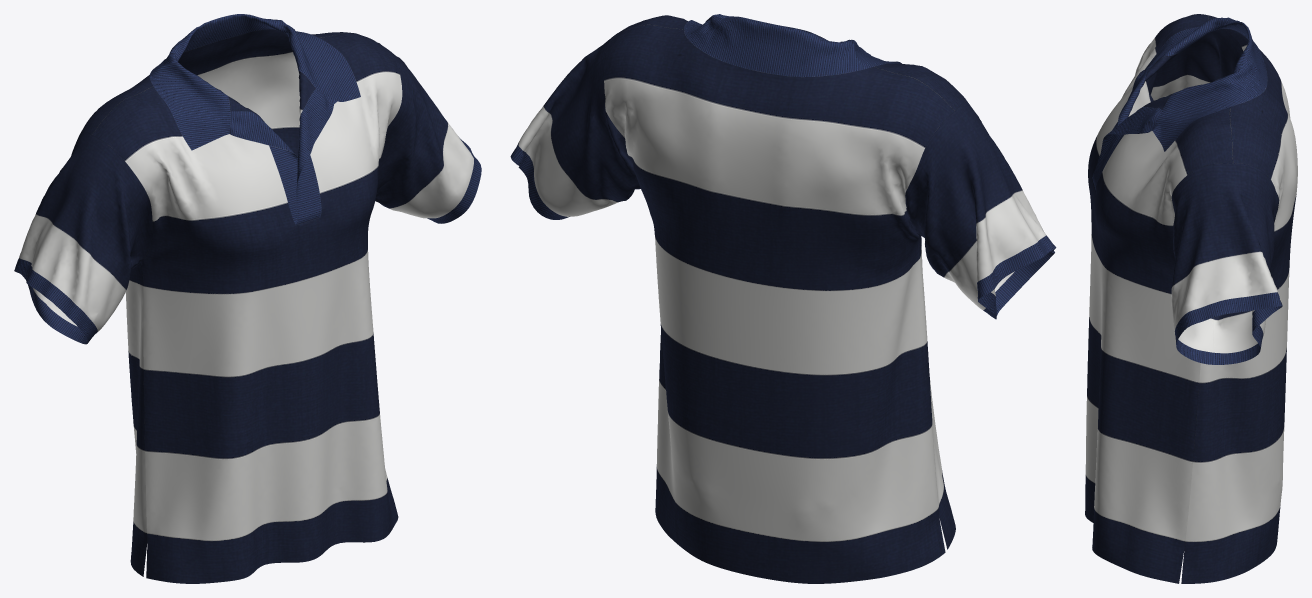
File: tshirt1.glb
3 renders of one model, left to right at view 1: azimuth 30°, elevation 25°; view 2: azimuth 150°, elevation 25°; view 3: azimuth 270°, elevation 25°, orthographic. The views are drawn at different scales.
Parts seen in each view (by area): view 1: AM_102_035_003; view 2: AM_102_035_003; view 3: AM_102_035_003.
Part boxes in pixels (x1=…): AM_102_035_003: x1=14, y1=14, x2=481, y2=583; AM_102_035_003: x1=510, y1=14, x2=1056, y2=583; AM_102_035_003: x1=1085, y1=14, x2=1297, y2=583.
Size of the model in its own units: 71.86 by 75.6 by 29.32.
1 material, 1 textured.
